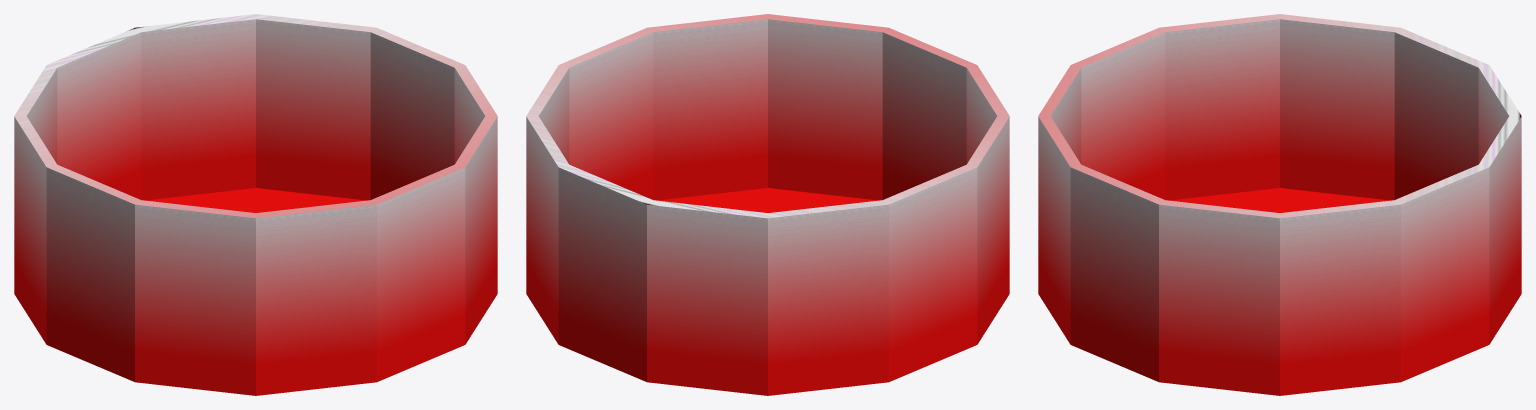
File: red.obj
3 views of the same model, side by side, from view 1: azimuth 30°, elevation 25°; view 2: azimuth 150°, elevation 25°; view 3: azimuth 270°, elevation 25° (orthographic).
Size of the model in its own units: 2.19 by 0.8871 by 2.19.
1 material, 1 textured.
